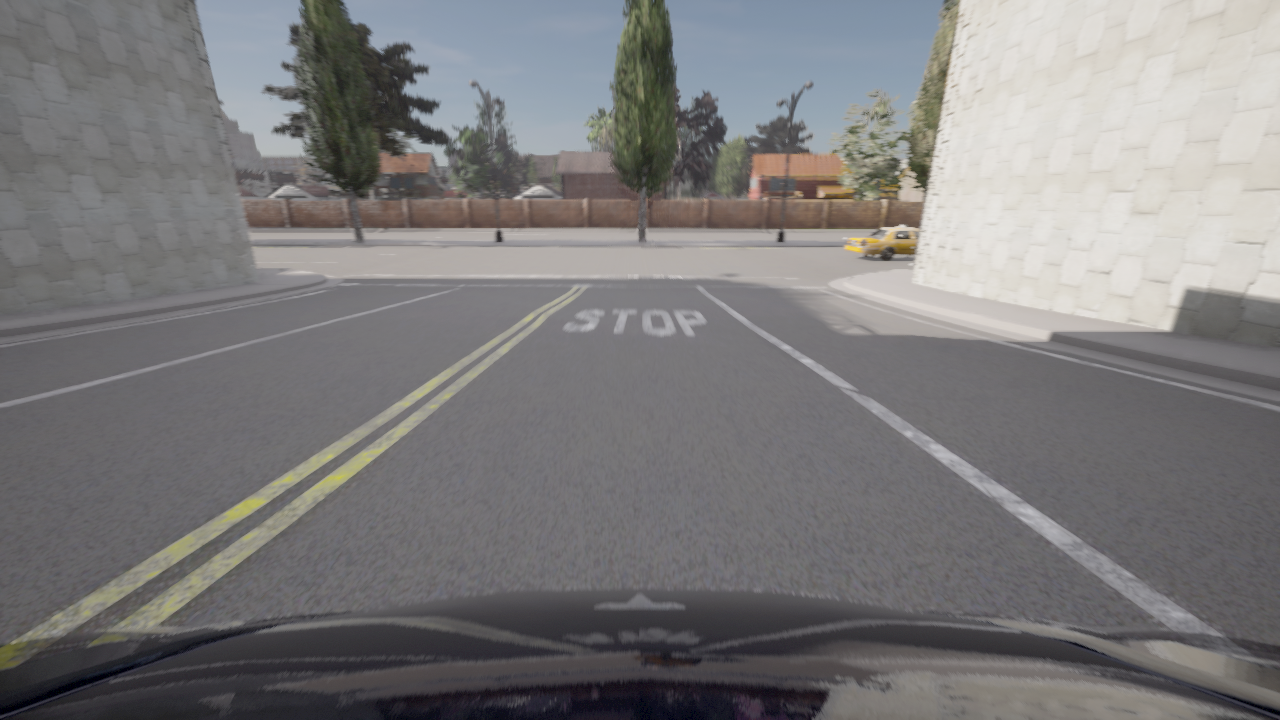cyclist: (0, 588, 1279, 719), (845, 225, 920, 261)
